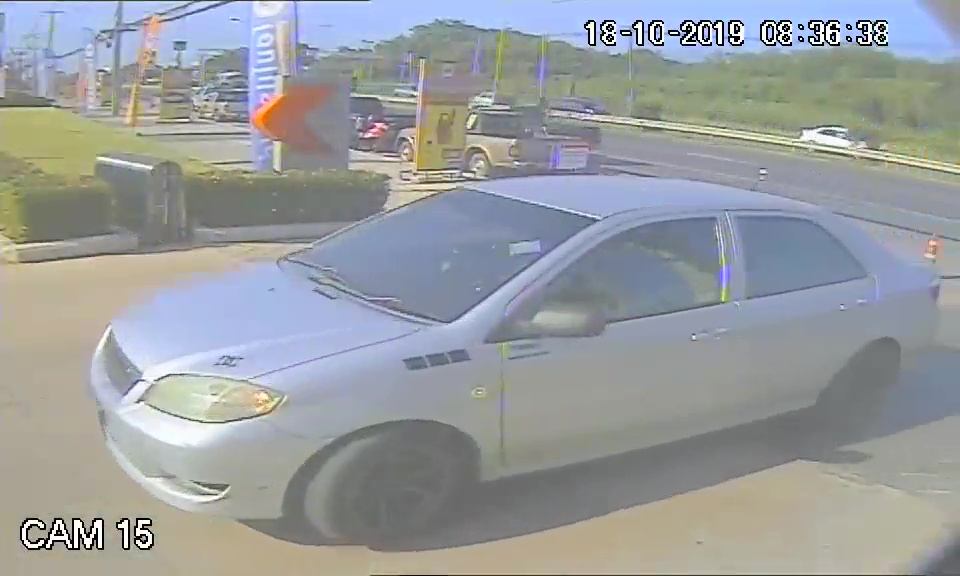sedan: (85, 173, 778, 537)
